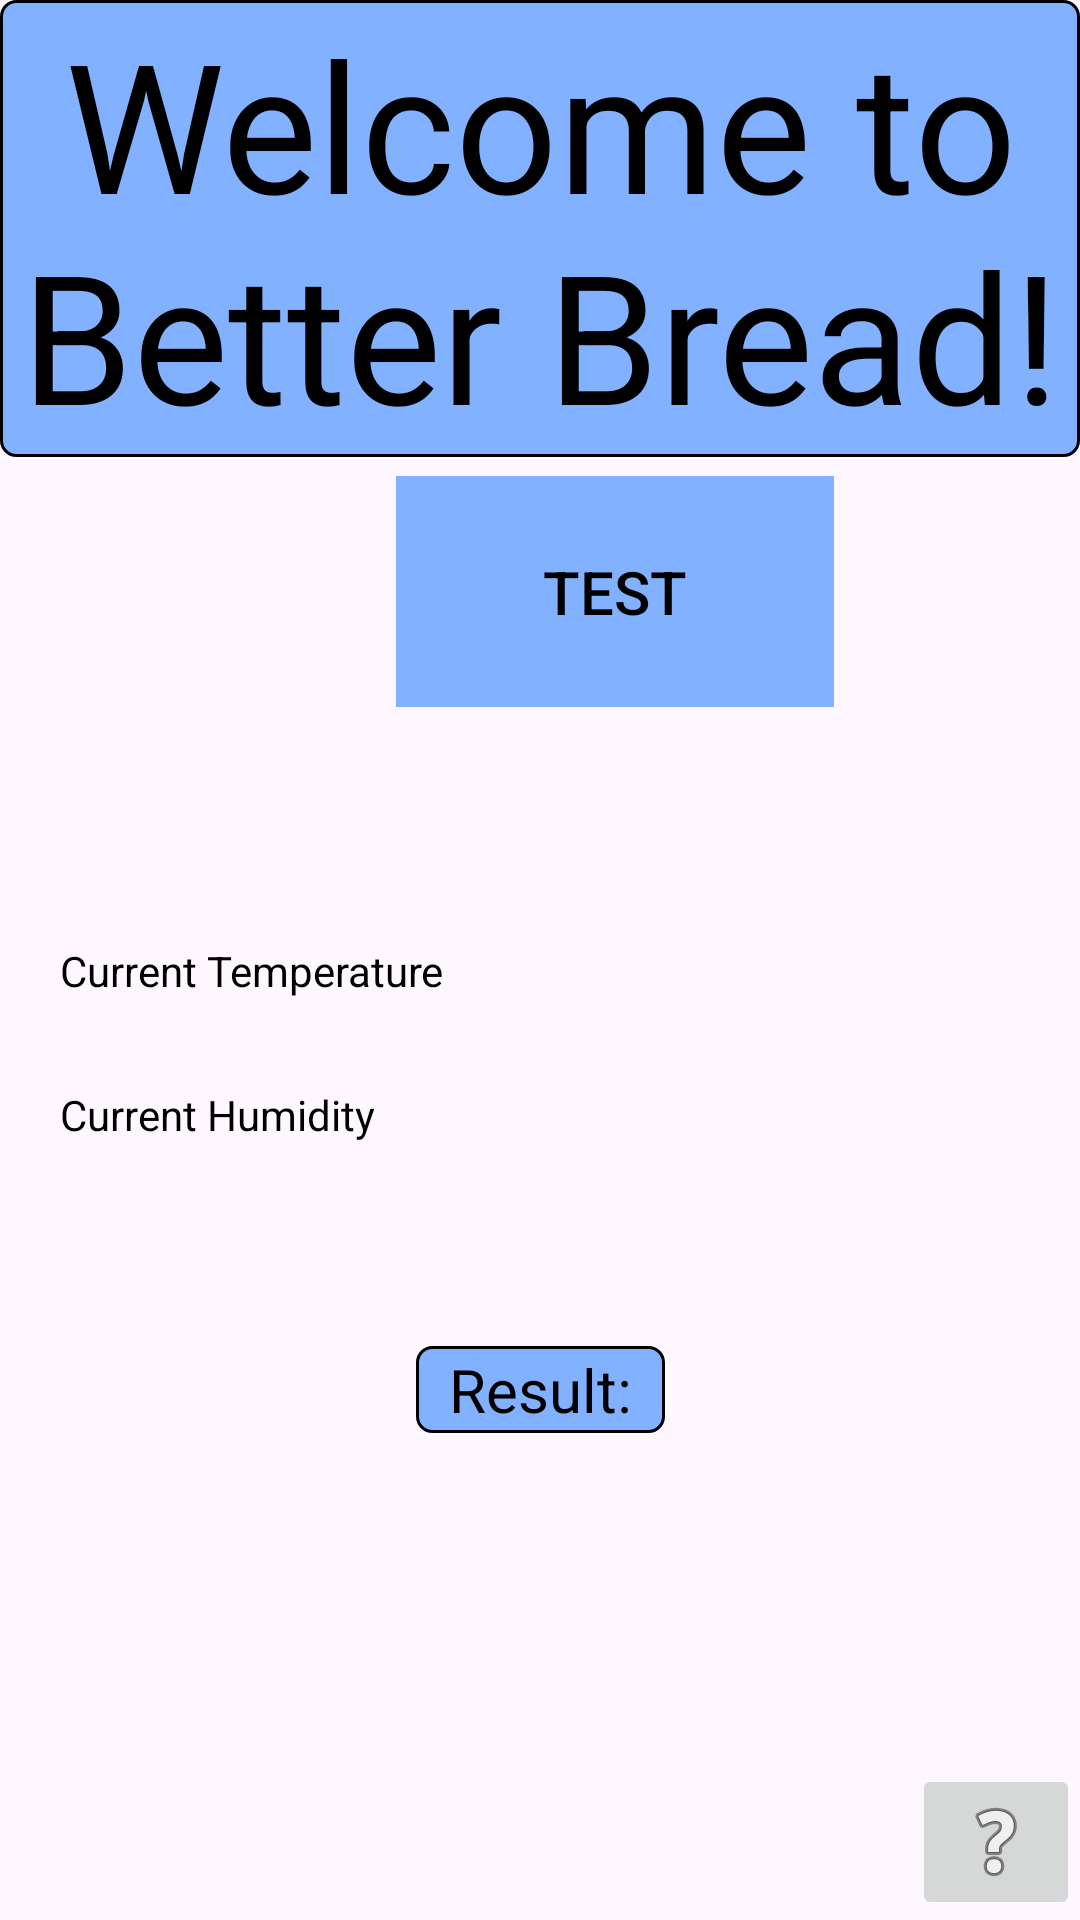

Locate icon controls on the screen. Image size 1080px x 1920px, boxes as (x1, y1, x2, y2).
help: (924, 1782, 1068, 1902)
